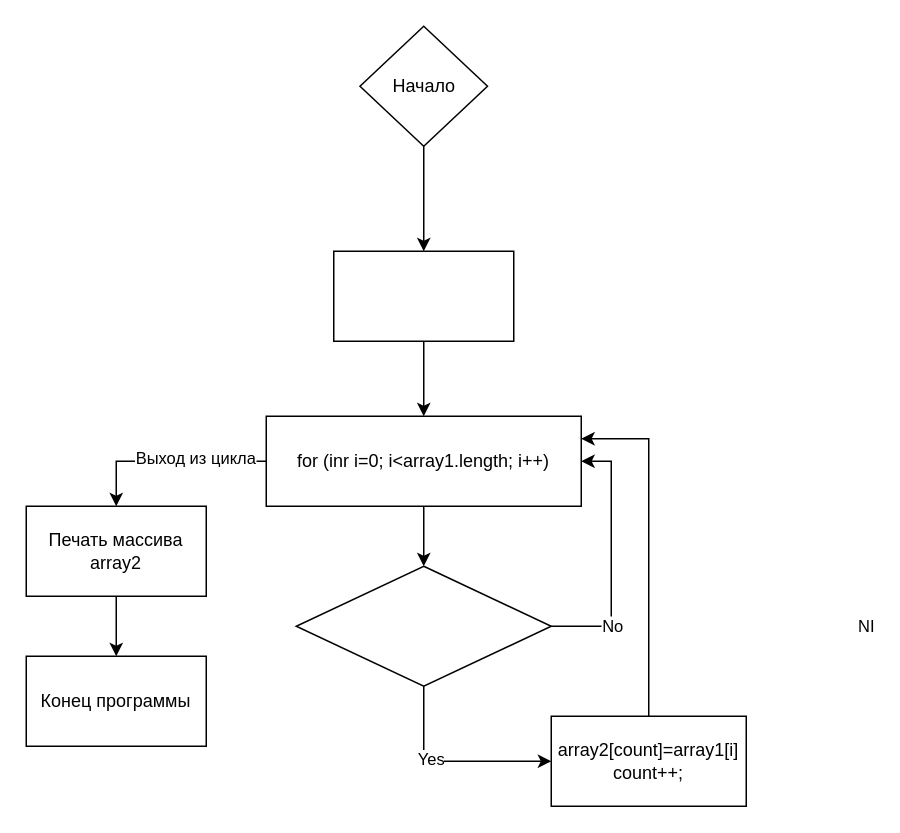
This 900x833 diagram has some shape labels left out. The shapes that lost their labels are listed below. From the top down, each one's box as (x1, y1, x2, y2) in pixels, then its label:
(332, 250, 514, 341): array1[] array2[] count=0
(295, 565, 551, 686): if (array1[i].length<=3
